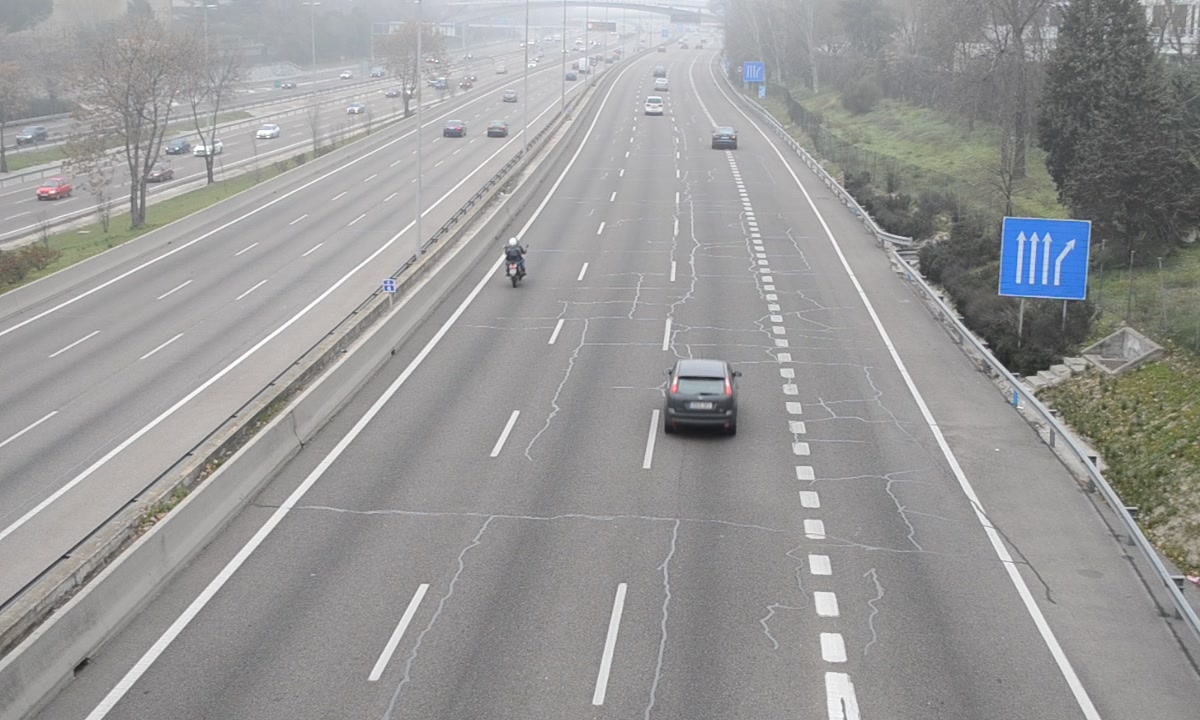car: (664, 360, 738, 431), (712, 128, 736, 149), (645, 96, 664, 116)
motorcycle: (500, 236, 528, 291)
